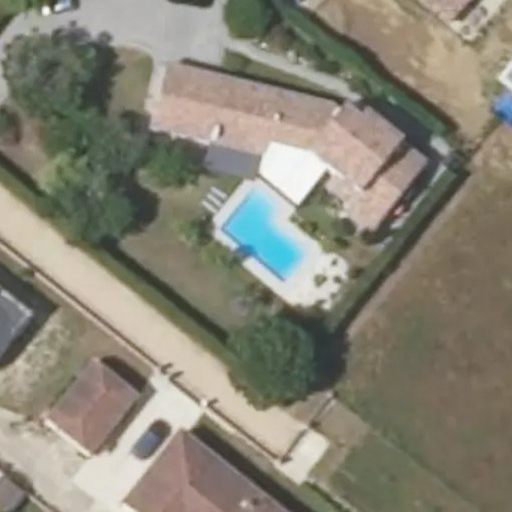pool: (210, 236, 313, 247)
